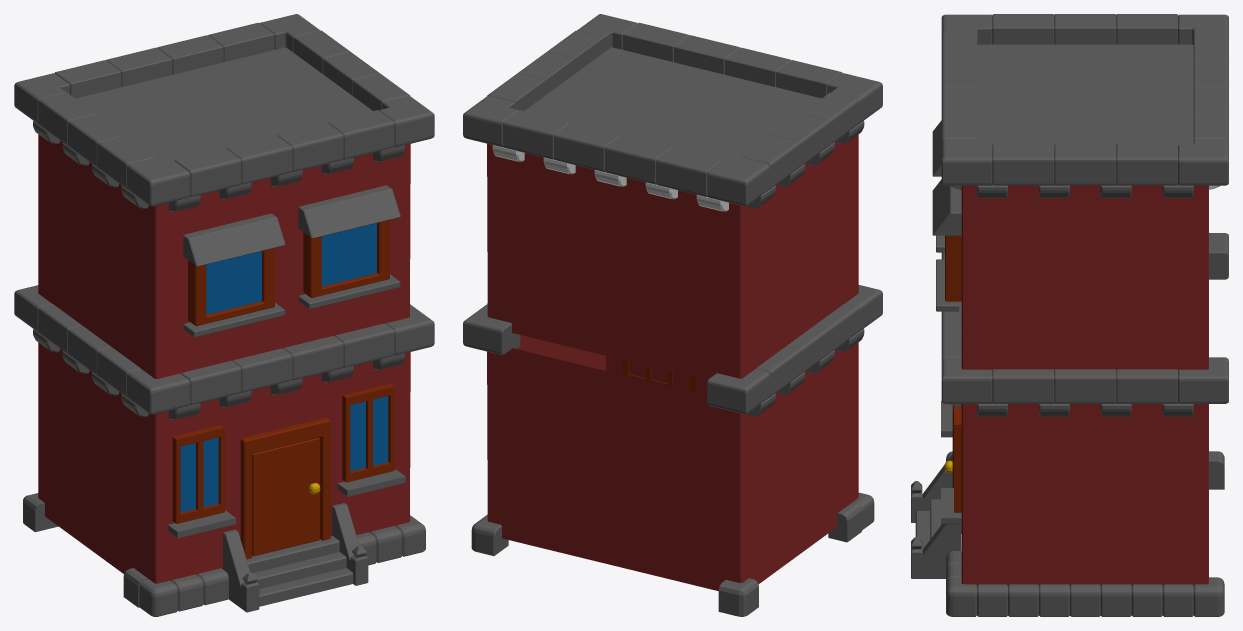
File: Edificio Baackground.FBX
3 renders of one model, left to right at view 1: azimuth 30°, elevation 25°; view 2: azimuth 150°, elevation 25°; view 3: azimuth 270°, elevation 25°, orthographic. The views are drawn at different scales.
Parts seen in each view (by area): view 1: streetview; view 2: streetview; view 3: streetview.
Part boxes in pixels (x1,y1,x2,y2): streetview: (14,14,434,616); streetview: (463,14,882,616); streetview: (911,14,1228,616).
Bounding box in the file's own units: 2228 × 3295 × 2055.
